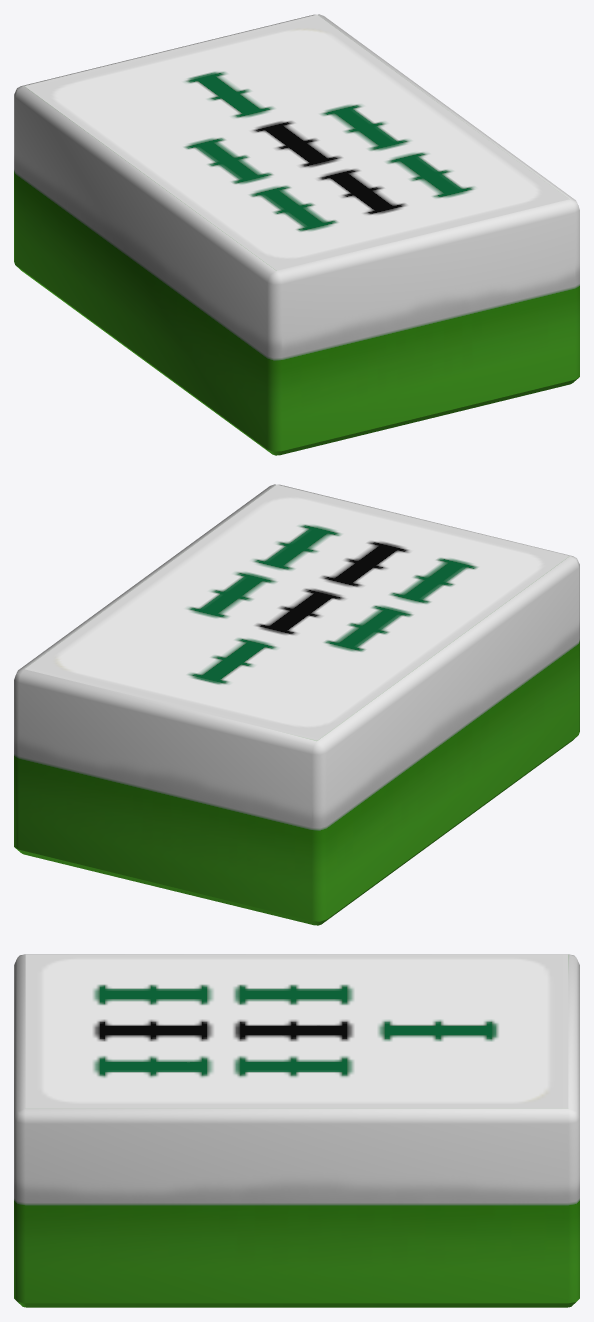
The model's file is mahjong_tile_07.FBX.
3 views of the same model, one above another, from view 1: azimuth 30°, elevation 25°; view 2: azimuth 150°, elevation 25°; view 3: azimuth 270°, elevation 25° (orthographic). The views are drawn at different scales.
Parts seen in each view (by area): view 1: mahjong_tile_07; view 2: mahjong_tile_07; view 3: mahjong_tile_07.
Boxes of the visible parts, left/top/right/bottom form: mahjong_tile_07: left=14, top=14, right=579, bottom=455; mahjong_tile_07: left=14, top=484, right=579, bottom=925; mahjong_tile_07: left=14, top=954, right=579, bottom=1307.
Size of the model in its own units: 130 by 73.07 by 190.
